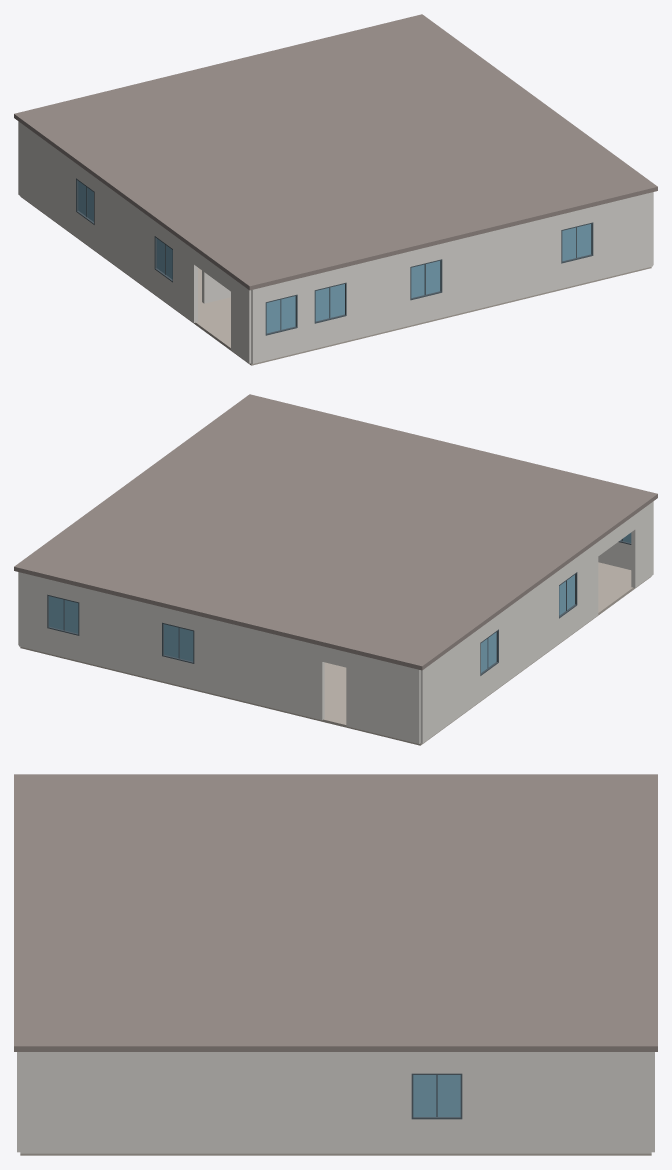
The model's file is new-home-4d7faa2702.glb.
3 views of the same model, one above another, from view 1: azimuth 30°, elevation 25°; view 2: azimuth 150°, elevation 25°; view 3: azimuth 270°, elevation 25° (orthographic). The views are drawn at different scales.
Parts seen in each view (by area): view 1: roof_0, wall_0_16, wall_0_15, wall_0_19, wall_0_17, wall_0_18, floor_slab_0, wall_0_20, wall_0_21, wall_0_14, wall_0_13, window_0_1_pane (+13 smaller); view 2: roof_0, wall_0_1, wall_0_2, wall_0_0, wall_0_18, wall_0_19, floor_slab_0, wall_0_3, wall_0_21, wall_0_20, window_0_6_pane, window_0_8_pane (+6 smaller); view 3: roof_0, wall_0_33, wall_0_32, window_0_7_pane, floor_slab_0, wall_0_61, wall_0_60.
Boxes of the visible parts, x1=… form: roof_0: x1=14, y1=14, x2=657, y2=290; wall_0_16: x1=442, y1=214, x2=561, y2=317; wall_0_15: x1=346, y1=251, x2=410, y2=340; wall_0_19: x1=94, y1=177, x2=154, y2=293; wall_0_17: x1=593, y1=192, x2=652, y2=280; wall_0_18: x1=18, y1=121, x2=75, y2=236; floor_slab_0: x1=20, y1=196, x2=651, y2=365; wall_0_20: x1=173, y1=234, x2=197, y2=322; wall_0_21: x1=231, y1=277, x2=251, y2=363; wall_0_14: x1=297, y1=274, x2=314, y2=352; wall_0_13: x1=251, y1=286, x2=265, y2=363; window_0_1_pane: x1=315, y1=284, x2=344, y2=321; roof_0: x1=14, y1=394, x2=657, y2=670; wall_0_1: x1=194, y1=615, x2=324, y2=720; wall_0_2: x1=79, y1=587, x2=161, y2=681; wall_0_0: x1=346, y1=652, x2=420, y2=743; wall_0_18: x1=420, y1=628, x2=480, y2=743; wall_0_19: x1=499, y1=571, x2=558, y2=687; floor_slab_0: x1=20, y1=562, x2=651, y2=745; wall_0_3: x1=19, y1=572, x2=47, y2=652; wall_0_21: x1=631, y1=501, x2=653, y2=587; wall_0_20: x1=577, y1=542, x2=598, y2=629; window_0_6_pane: x1=164, y1=624, x2=193, y2=661; window_0_8_pane: x1=49, y1=596, x2=78, y2=633; roof_0: x1=14, y1=774, x2=657, y2=1051; wall_0_33: x1=20, y1=1052, x2=411, y2=1153; wall_0_32: x1=462, y1=1052, x2=651, y2=1153; window_0_7_pane: x1=413, y1=1075, x2=460, y2=1116; floor_slab_0: x1=20, y1=1153, x2=651, y2=1155; wall_0_61: x1=411, y1=1119, x2=462, y2=1153; wall_0_60: x1=411, y1=1052, x2=462, y2=1073.
Size of the model in its own units: 51 by 9.8 by 51.
